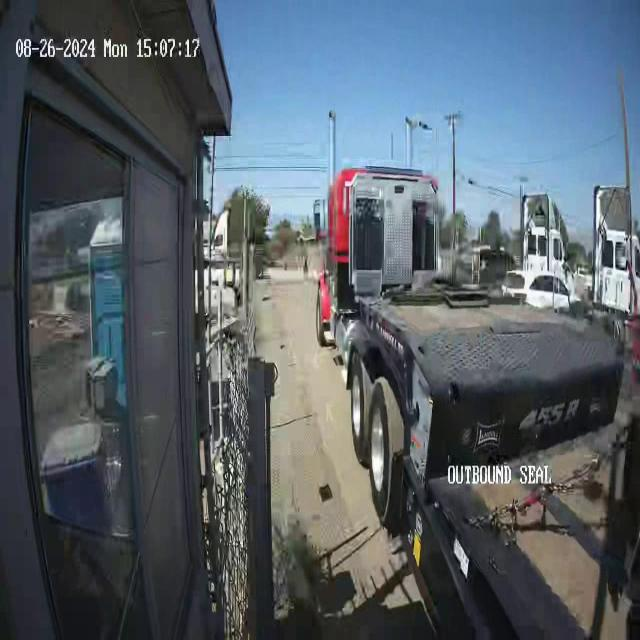BOBTAIL: (312, 107, 640, 640)
